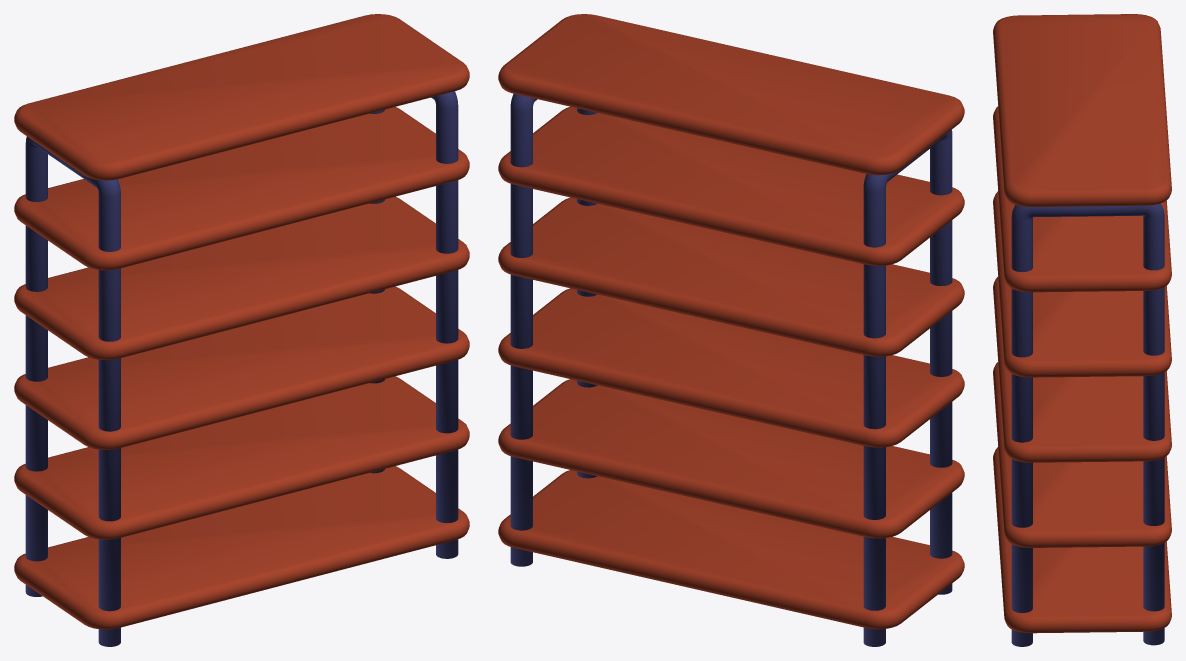
File: cheeseshelf.fbx
The picture shows the model from 3 angles, left to right: view 1: azimuth 30°, elevation 25°; view 2: azimuth 150°, elevation 25°; view 3: azimuth 270°, elevation 25°; orthographic projection. The views are drawn at different scales.
Visible parts, largest first — view 1: Shelf; view 2: Shelf; view 3: Shelf.
Boxes of the visible parts, x1,y1,x2,y2 form: Shelf: (14, 14, 469, 646); Shelf: (498, 14, 964, 646); Shelf: (993, 14, 1171, 646).
Bounding box in the file's own units: 458 × 540 × 190.
